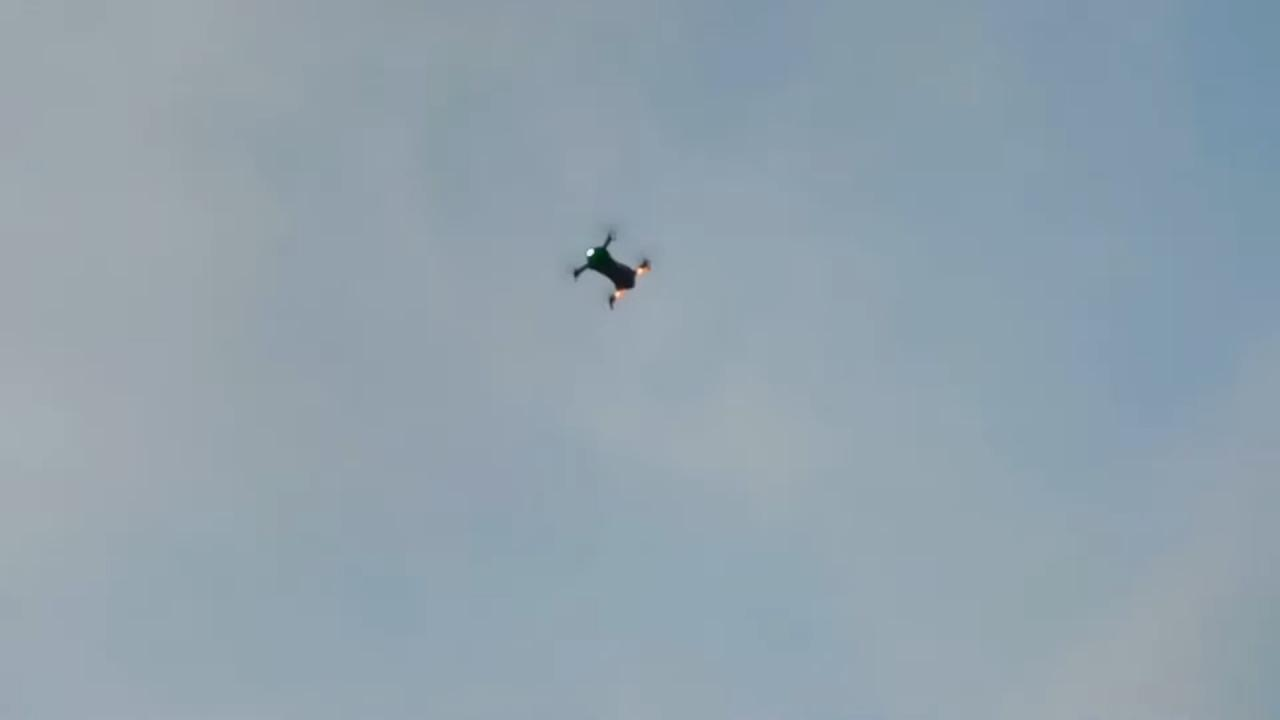Drone: (554, 215, 672, 322)
